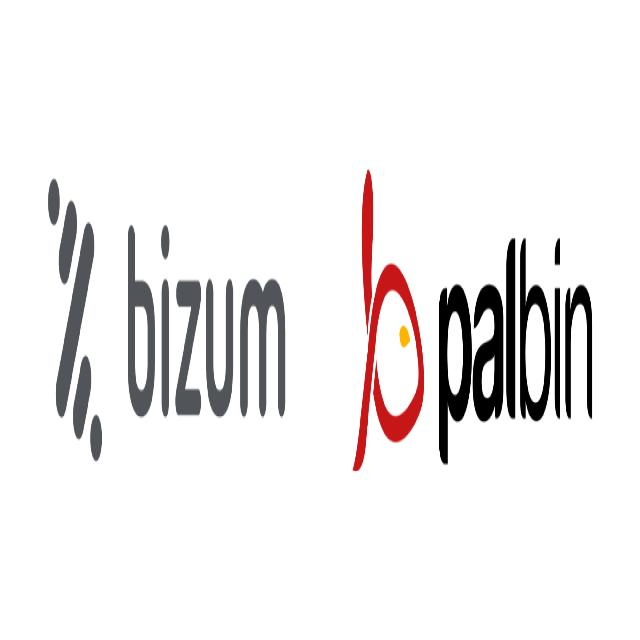bizum: (48, 179, 102, 458)
bizum_txt: (127, 221, 286, 420)
